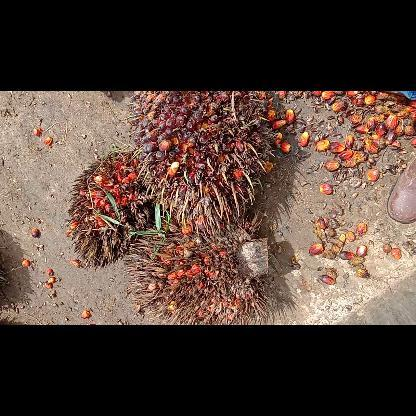TBS masak: (129, 91, 277, 238)
Terlalu masak: (121, 216, 274, 324), (66, 148, 150, 272)
